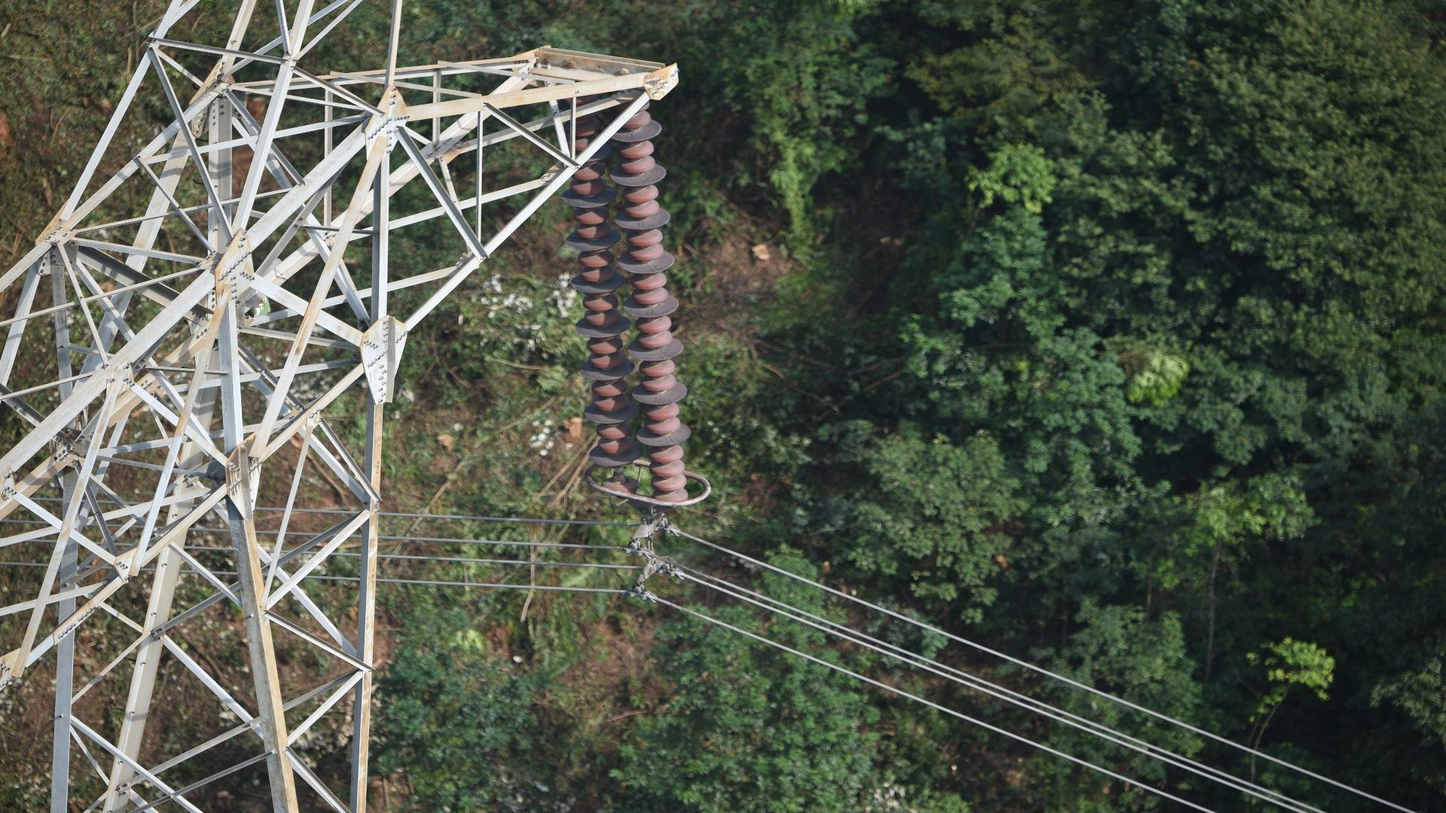insulator: (557, 101, 694, 513)
